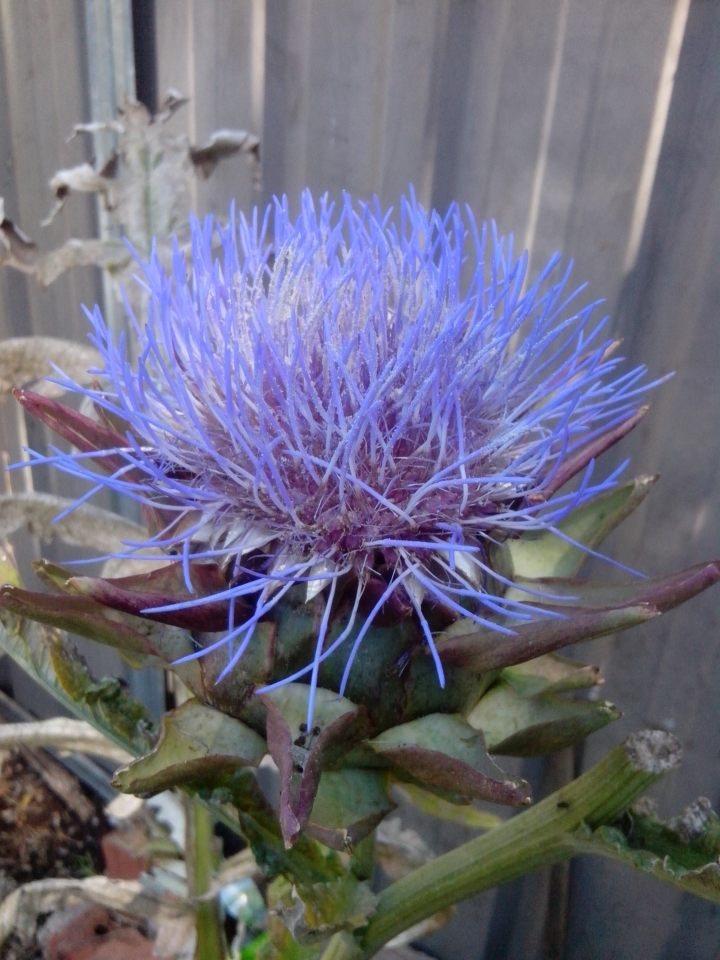thistle: (59, 195, 655, 787)
